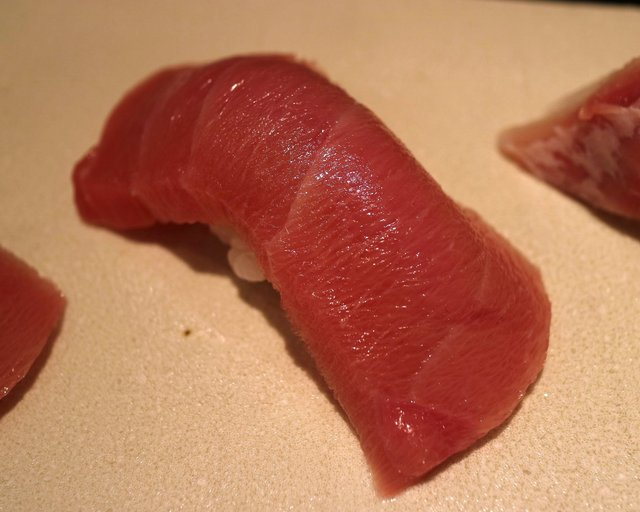medium_fatty_tuna: (77, 55, 548, 493)
